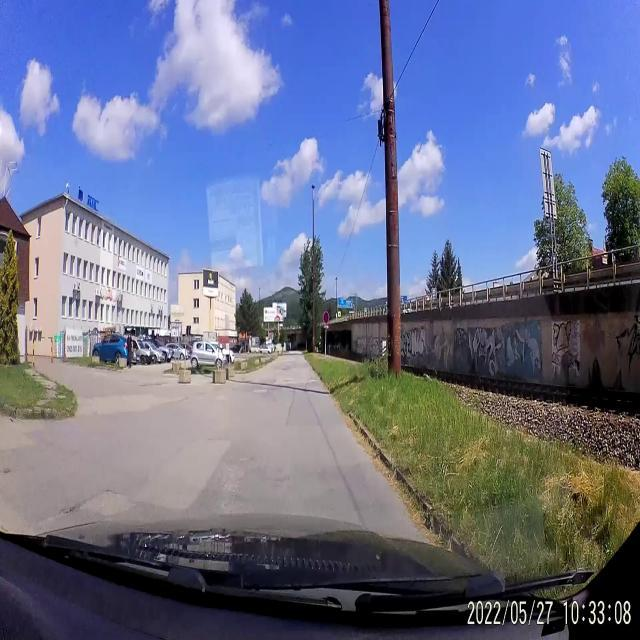Pothole: (58, 498, 82, 519), (1, 466, 12, 476)
